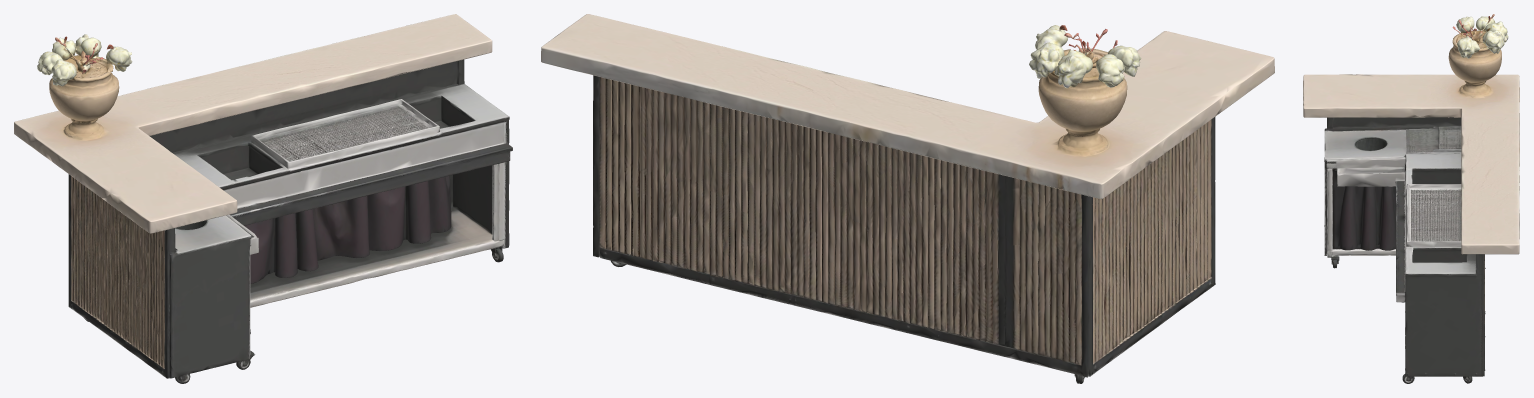
File: bar-resort-right.glb
3 views of the same model, side by side, from view 1: azimuth 30°, elevation 25°; view 2: azimuth 150°, elevation 25°; view 3: azimuth 270°, elevation 25° (orthographic). The views are drawn at different scales.
Parts seen in each view (by area): view 1: tripo_node_c88daa3c-88a2-4e61-b4ae-a3b2db3409f4; view 2: tripo_node_c88daa3c-88a2-4e61-b4ae-a3b2db3409f4; view 3: tripo_node_c88daa3c-88a2-4e61-b4ae-a3b2db3409f4.
Boxes of the visible parts, x1=… form: tripo_node_c88daa3c-88a2-4e61-b4ae-a3b2db3409f4: x1=14, y1=14, x2=512, y2=383; tripo_node_c88daa3c-88a2-4e61-b4ae-a3b2db3409f4: x1=541, y1=14, x2=1274, y2=383; tripo_node_c88daa3c-88a2-4e61-b4ae-a3b2db3409f4: x1=1303, y1=14, x2=1519, y2=383.
Bounding box in the file's own units: 2.6 × 1.57 × 1.39.
Materials: 1 (1 with a texture image).
